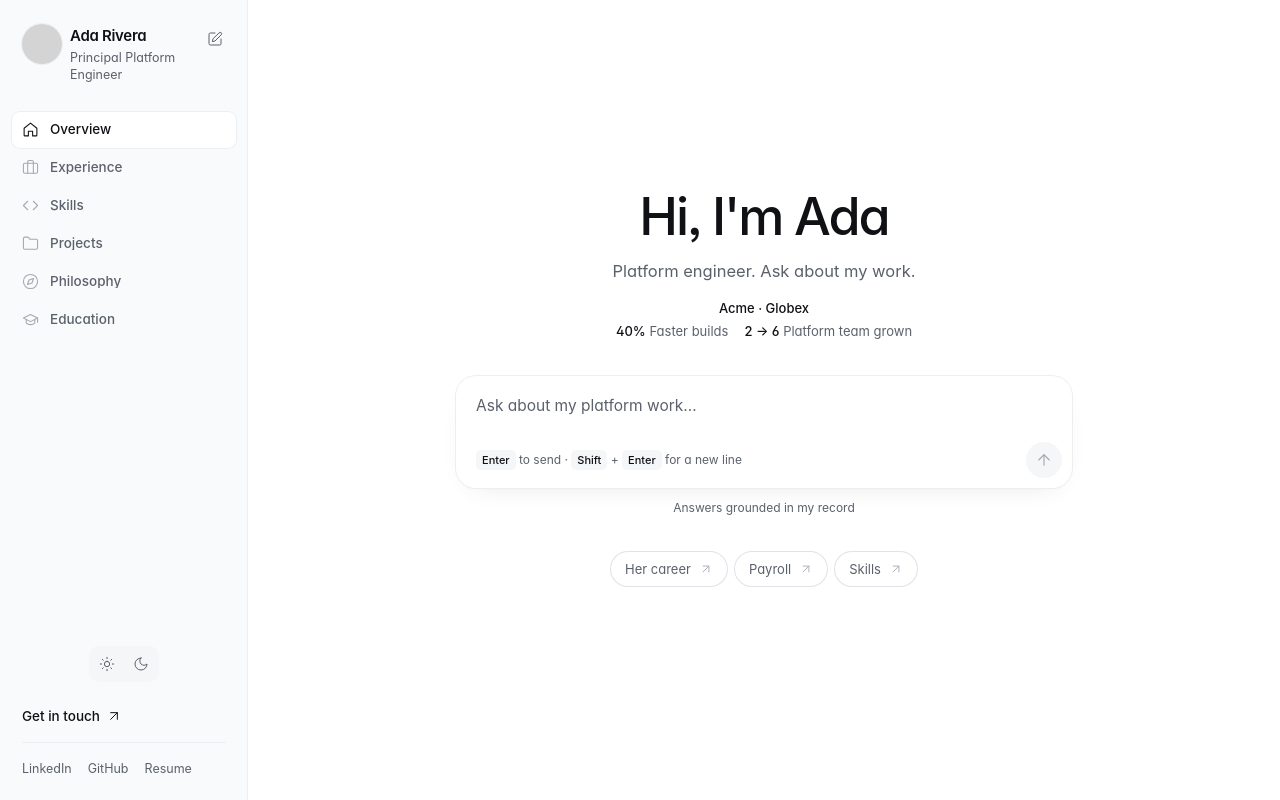
Test: one question limit › caps what the composer takes
Type "abcdefgh" into the text box named "Ask the portfolio assistant a question".
click(764, 406); type("abcdefgh")  # box left=456, top=376, right=1072, bottom=436
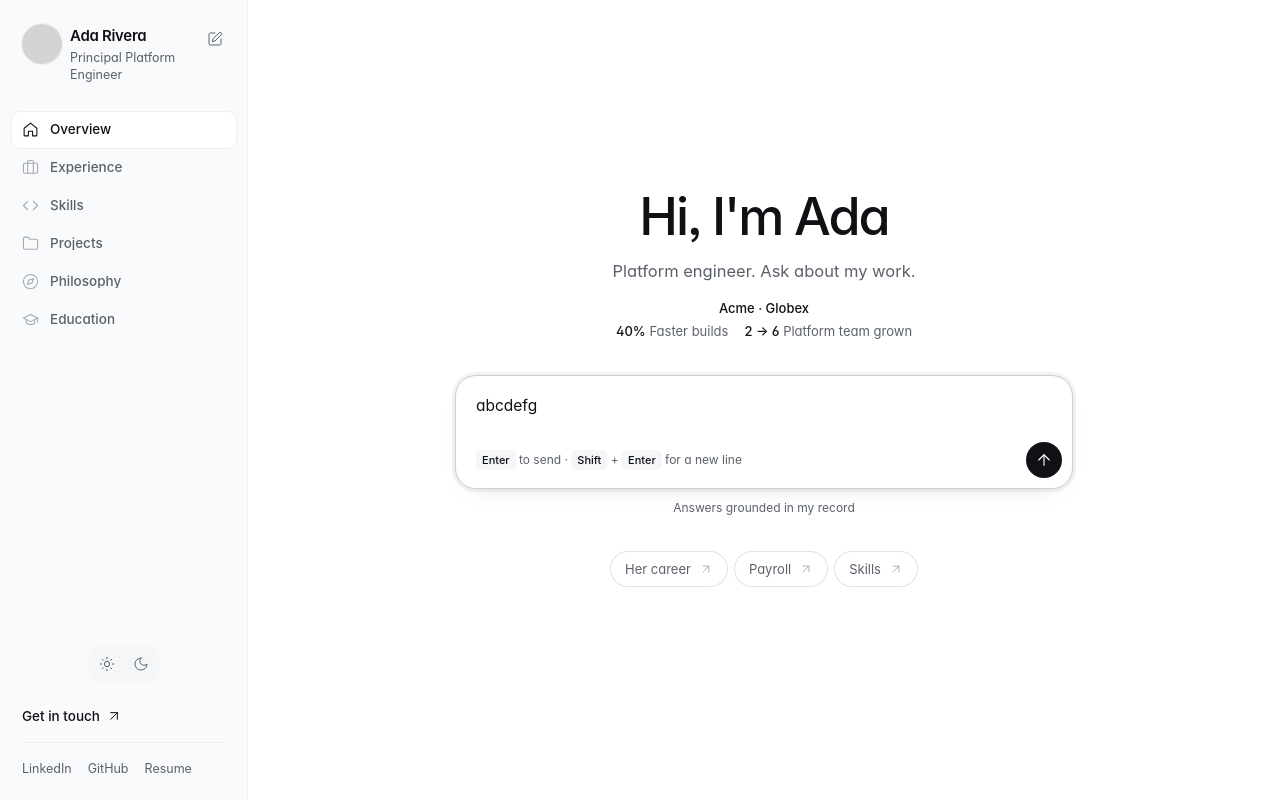
Result: the text box named "Ask the portfolio assistant a question" holds "abcdefg" at left=456, top=376, right=1072, bottom=436
